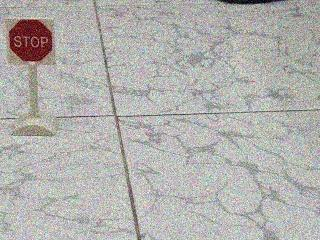stop: (4, 15, 65, 70)
